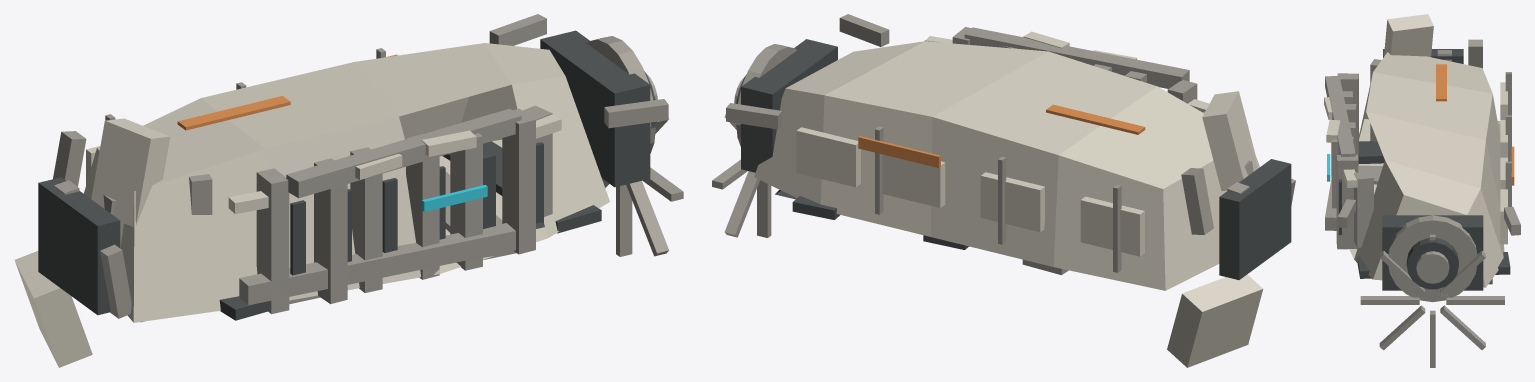
Rendered from TC_HeavyCrashHull_V1.glb.
3 renders of one model, left to right at view 1: azimuth 30°, elevation 25°; view 2: azimuth 150°, elevation 25°; view 3: azimuth 270°, elevation 25°, orthographic. The views are drawn at different scales.
Visible parts, largest first — view 1: TC_HeavyCrashHull_V1_broken_asymmetric_industrial_hull_shell, TC_HeavyCrashHull_V1_deep_rear_engine_mount_graphite_socket, TC_HeavyCrashHull_V1_crushed_front_large_graphite_void, TC_HeavyCrashHull_V1_thick_torn_breach_lower_lip, TC_HeavyCrashHull_V1_crushed_front_folded_offwhite_plate_rig, TC_HeavyCrashHull_V1_thick_torn_breach_upper_lip, TC_HeavyCrashHull_V1_large_exposed_internal_rib_6, TC_HeavyCrashHull_V1_crushed_front_folded_offwhite_plate_lef, TC_HeavyCrashHull_V1_large_exposed_internal_rib_1, TC_HeavyCrashHull_V1_large_exposed_internal_rib_2, TC_HeavyCrashHull_V1_large_exposed_internal_rib_3, TC_HeavyCrashHull_V1_large_exposed_internal_rib_5 (+22 smaller); view 2: TC_HeavyCrashHull_V1_broken_asymmetric_industrial_hull_shell, TC_HeavyCrashHull_V1_crushed_front_large_graphite_void, TC_HeavyCrashHull_V1_crushed_front_folded_offwhite_plate_lef, TC_HeavyCrashHull_V1_deep_rear_engine_mount_graphite_socket, TC_HeavyCrashHull_V1_crushed_front_folded_offwhite_plate_rig, TC_HeavyCrashHull_V1_thick_torn_breach_upper_lip, TC_HeavyCrashHull_V1_manufactured_hull_panel_4, TC_HeavyCrashHull_V1_manufactured_hull_panel_1, TC_HeavyCrashHull_V1_manufactured_hull_panel_2, TC_HeavyCrashHull_V1_manufactured_hull_panel_3, TC_HeavyCrashHull_V1_jagged_front_steel_fracture_strut_4, TC_HeavyCrashHull_V1_muted_orange_side_marking (+12 smaller); view 3: TC_HeavyCrashHull_V1_broken_asymmetric_industrial_hull_shell, TC_HeavyCrashHull_V1_rear_engine_outer_worn_steel_ring, TC_HeavyCrashHull_V1_deep_rear_engine_mount_graphite_socket, TC_HeavyCrashHull_V1_crushed_front_folded_offwhite_plate_rig, TC_HeavyCrashHull_V1_rear_engine_inner_graphite_nozzle, TC_HeavyCrashHull_V1_thick_torn_breach_upper_lip, TC_HeavyCrashHull_V1_breach_rear_ripped_vertical_edge, TC_HeavyCrashHull_V1_large_exposed_internal_rib_6, TC_HeavyCrashHull_V1_rear_engine_broken_core_ring, TC_HeavyCrashHull_V1_large_exposed_internal_rib_1, TC_HeavyCrashHull_V1_uneven_buried_torn_lower_edge_1, TC_HeavyCrashHull_V1_rear_engine_radial_vane_3 (+26 smaller).
Boxes of the visible parts, left/top/right/bottom form: TC_HeavyCrashHull_V1_broken_asymmetric_industrial_hull_shell: left=84, top=43, right=609, bottom=322; TC_HeavyCrashHull_V1_deep_rear_engine_mount_graphite_socket: left=540, top=30, right=650, bottom=187; TC_HeavyCrashHull_V1_crushed_front_large_graphite_void: left=38, top=177, right=120, bottom=315; TC_HeavyCrashHull_V1_thick_torn_breach_lower_lip: left=239, top=223, right=515, bottom=305; TC_HeavyCrashHull_V1_crushed_front_folded_offwhite_plate_rig: left=91, top=118, right=170, bottom=226; TC_HeavyCrashHull_V1_thick_torn_breach_upper_lip: left=286, top=108, right=521, bottom=198; TC_HeavyCrashHull_V1_large_exposed_internal_rib_6: left=502, top=108, right=535, bottom=254; TC_HeavyCrashHull_V1_crushed_front_folded_offwhite_plate_lef: left=14, top=251, right=92, bottom=367; TC_HeavyCrashHull_V1_large_exposed_internal_rib_1: left=256, top=168, right=289, bottom=314; TC_HeavyCrashHull_V1_large_exposed_internal_rib_2: left=314, top=158, right=347, bottom=304; TC_HeavyCrashHull_V1_large_exposed_internal_rib_3: left=350, top=147, right=382, bottom=292; TC_HeavyCrashHull_V1_large_exposed_internal_rib_5: left=450, top=133, right=482, bottom=270; TC_HeavyCrashHull_V1_broken_asymmetric_industrial_hull_shell: left=754, top=41, right=1259, bottom=290; TC_HeavyCrashHull_V1_crushed_front_large_graphite_void: left=1219, top=159, right=1291, bottom=279; TC_HeavyCrashHull_V1_crushed_front_folded_offwhite_plate_lef: left=1167, top=274, right=1263, bottom=367; TC_HeavyCrashHull_V1_deep_rear_engine_mount_graphite_socket: left=741, top=39, right=837, bottom=172; TC_HeavyCrashHull_V1_crushed_front_folded_offwhite_plate_rig: left=1202, top=91, right=1257, bottom=191; TC_HeavyCrashHull_V1_thick_torn_breach_upper_lip: left=964, top=27, right=1189, bottom=88; TC_HeavyCrashHull_V1_manufactured_hull_panel_4: left=796, top=127, right=860, bottom=187; TC_HeavyCrashHull_V1_manufactured_hull_panel_1: left=1080, top=196, right=1144, bottom=256; TC_HeavyCrashHull_V1_manufactured_hull_panel_2: left=980, top=172, right=1044, bottom=232; TC_HeavyCrashHull_V1_manufactured_hull_panel_3: left=882, top=154, right=945, bottom=207; TC_HeavyCrashHull_V1_jagged_front_steel_fracture_strut_4: left=1181, top=168, right=1213, bottom=234; TC_HeavyCrashHull_V1_muted_orange_side_marking: left=858, top=136, right=940, bottom=167; TC_HeavyCrashHull_V1_broken_asymmetric_industrial_hull_shell: left=1349, top=52, right=1504, bottom=287; TC_HeavyCrashHull_V1_rear_engine_outer_worn_steel_ring: left=1388, top=215, right=1477, bottom=302; TC_HeavyCrashHull_V1_deep_rear_engine_mount_graphite_socket: left=1382, top=215, right=1483, bottom=290; TC_HeavyCrashHull_V1_crushed_front_folded_offwhite_plate_rig: left=1384, top=14, right=1433, bottom=57; TC_HeavyCrashHull_V1_rear_engine_inner_graphite_nozzle: left=1406, top=238, right=1458, bottom=289; TC_HeavyCrashHull_V1_thick_torn_breach_upper_lip: left=1325, top=76, right=1355, bottom=156; TC_HeavyCrashHull_V1_breach_rear_ripped_vertical_edge: left=1354, top=171, right=1373, bottom=247; TC_HeavyCrashHull_V1_large_exposed_internal_rib_6: left=1336, top=154, right=1358, bottom=249; TC_HeavyCrashHull_V1_rear_engine_broken_core_ring: left=1416, top=251, right=1449, bottom=283; TC_HeavyCrashHull_V1_large_exposed_internal_rib_1: left=1337, top=73, right=1358, bottom=165; TC_HeavyCrashHull_V1_uneven_buried_torn_lower_edge_1: left=1358, top=141, right=1384, bottom=163; TC_HeavyCrashHull_V1_rear_engine_radial_vane_3: left=1360, top=296, right=1419, bottom=304.
Bounding box in the file's own units: 13.76 × 5.76 × 5.74.
